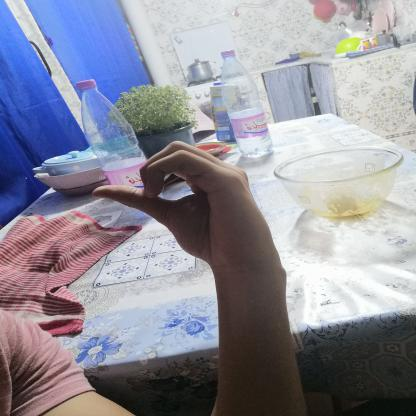WAW: (78, 129, 289, 279)
